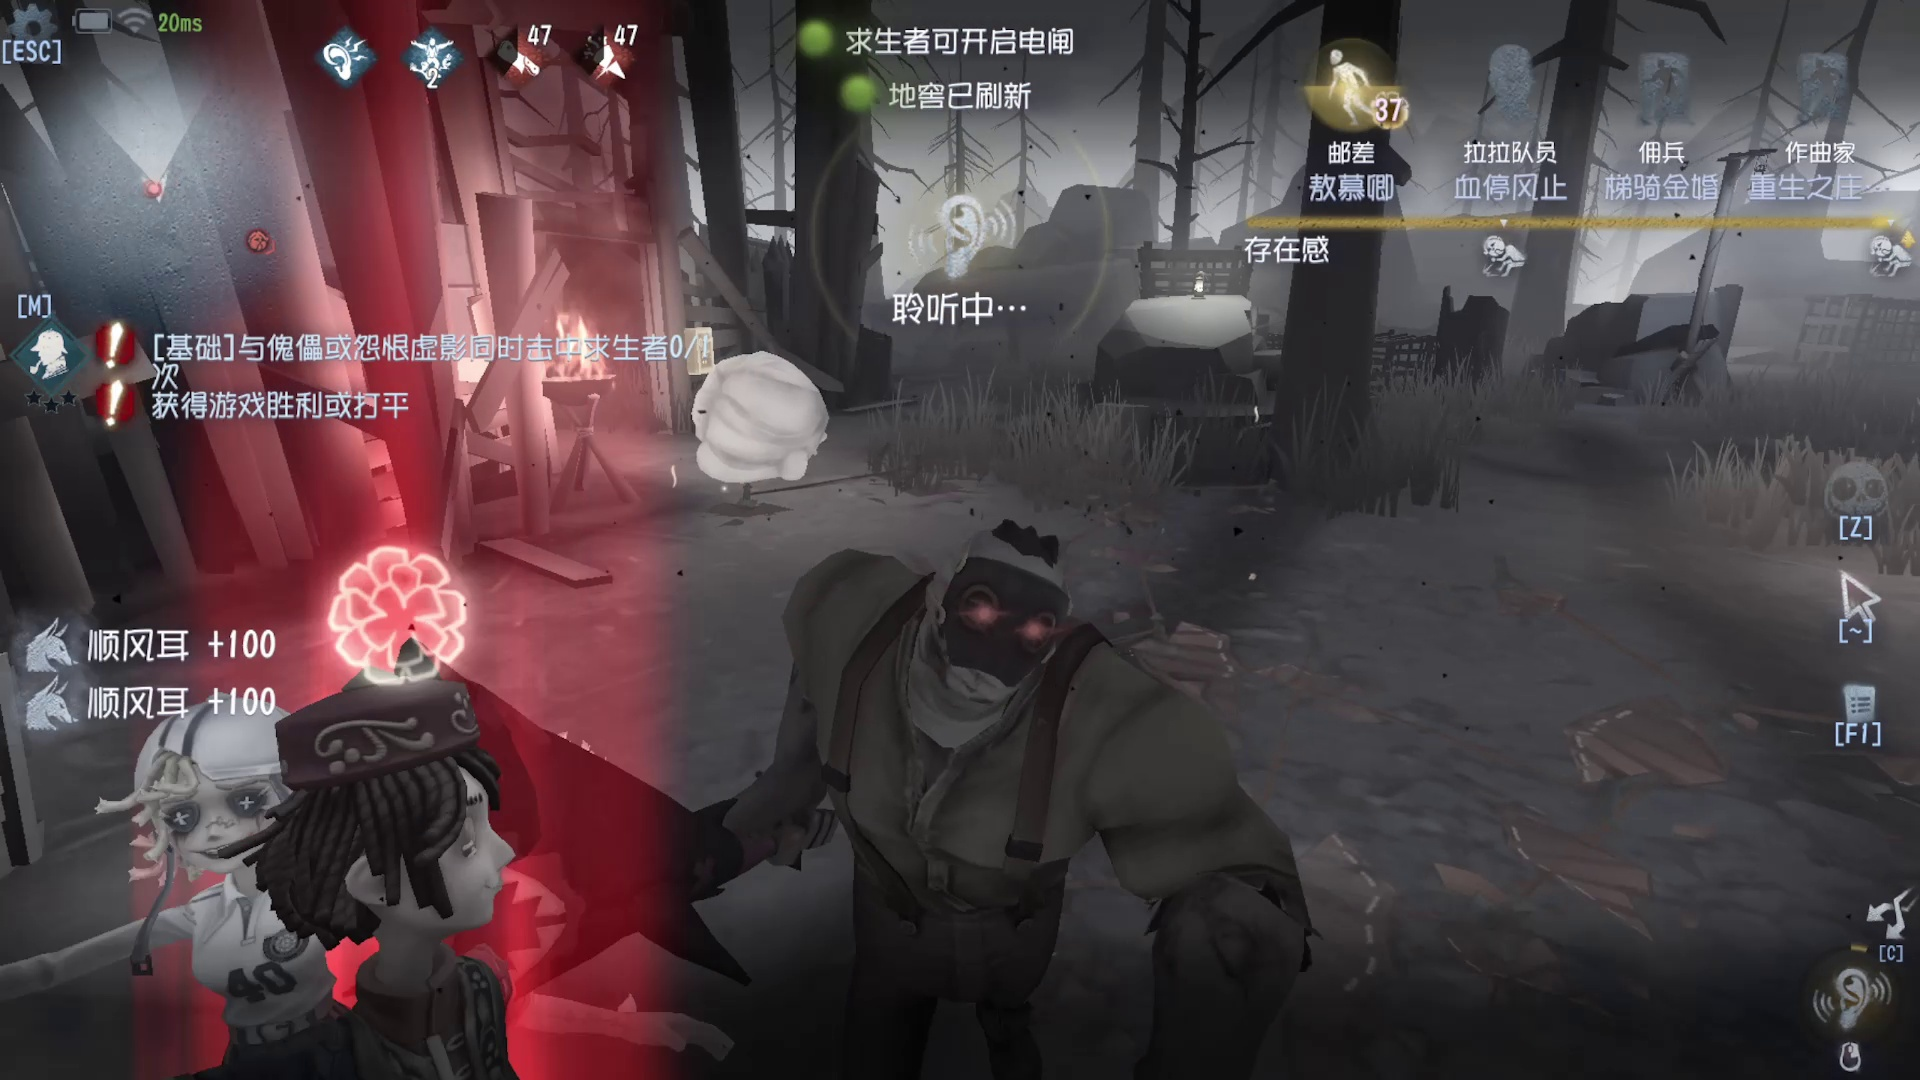设置: (1, 1, 80, 73)
